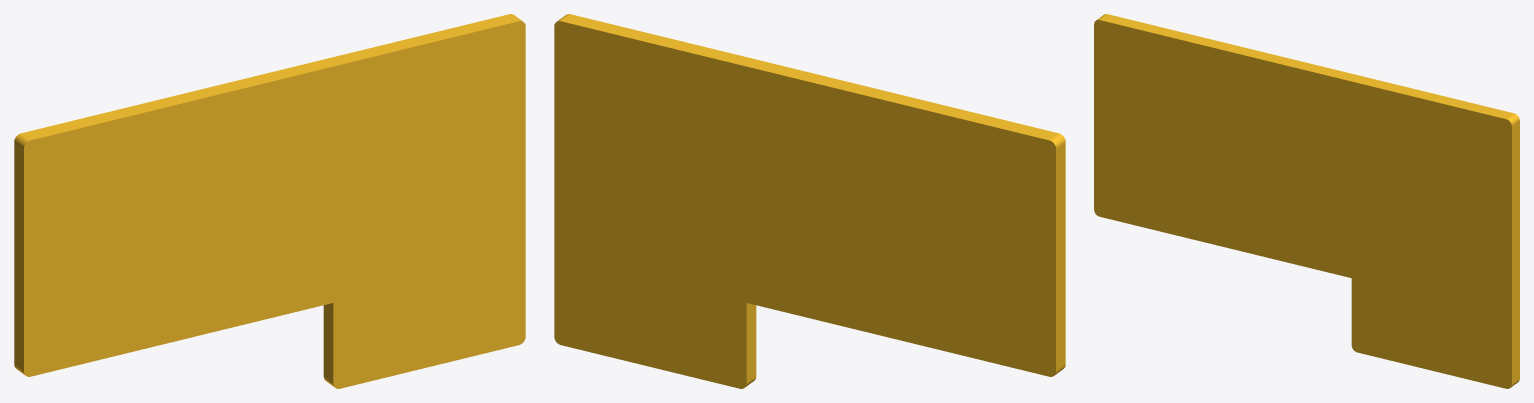
File: zatana_terra_base_vis_65.dae
3 views of the same model, side by side, from view 1: azimuth 30°, elevation 25°; view 2: azimuth 150°, elevation 25°; view 3: azimuth 330°, elevation 25° (orthographic). The views are drawn at different scales.
Visible parts, largest first — view 1: Node_000002318374B5A0; view 2: Node_000002318374B5A0; view 3: Node_000002318374B5A0.
Boxes of the visible parts, x1,y1,x2,y2 form: Node_000002318374B5A0: (14,14,525,388); Node_000002318374B5A0: (554,14,1065,388); Node_000002318374B5A0: (1094,14,1519,388).
Bounding box in the file's own units: 0.6 × 0.37 × 0.02.
